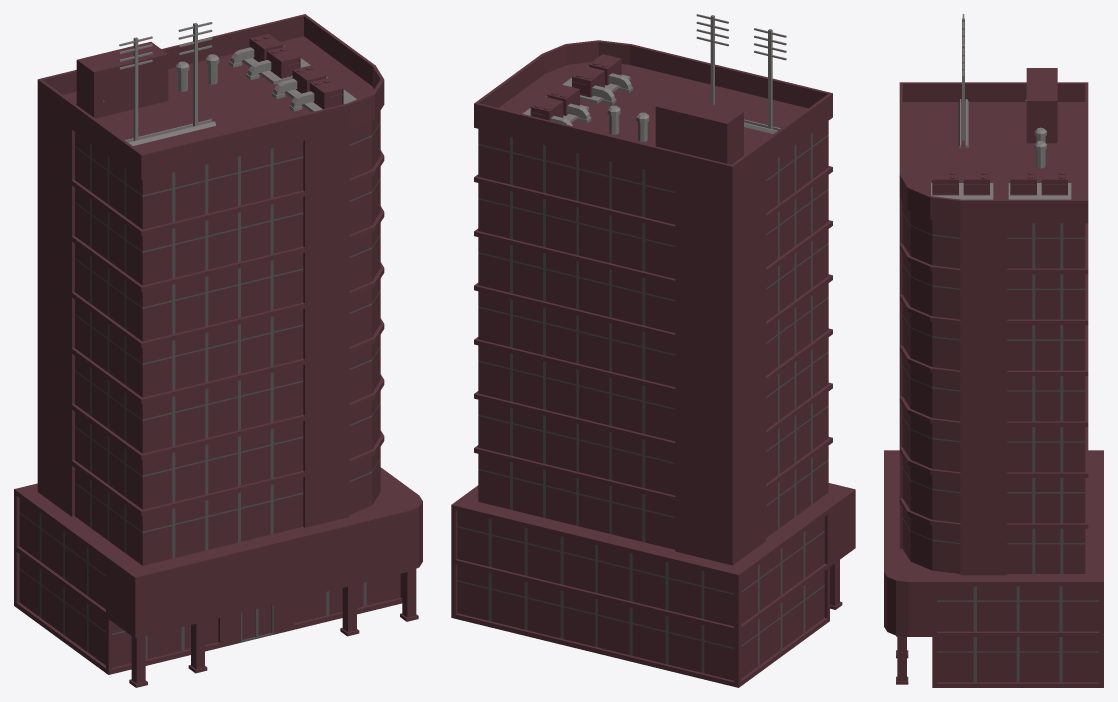
Rendered from building-office-rounded.fbx.
3 views of the same model, side by side, from view 1: azimuth 30°, elevation 25°; view 2: azimuth 150°, elevation 25°; view 3: azimuth 270°, elevation 25° (orthographic). The views are drawn at different scales.
Parts seen in each view (by area): view 1: building-office-rounded; view 2: building-office-rounded; view 3: building-office-rounded.
Boxes of the visible parts, x1,y1,x2,y2 form: building-office-rounded: (14, 14, 422, 687); building-office-rounded: (451, 14, 855, 687); building-office-rounded: (884, 14, 1103, 687).
Bounding box in the file's own units: 20 × 39.4 × 14.1.
